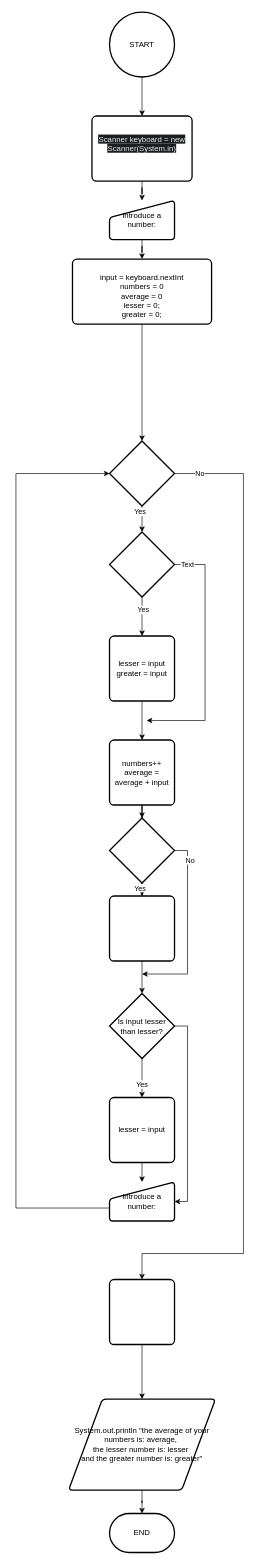
This 260x1564 diagram has some shape labels left out. Here are the shapes that lost their labels. From the top down, the centre of each, then its label:
point (142, 473): Is input greater than 0?
point (142, 564): Is numbers == 0?
point (142, 850): Is input greater than greater?
point (142, 928): greater = input
point (142, 1312): average = average / numbers
